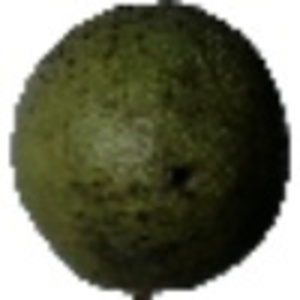abacate: (4, 1, 295, 292)
